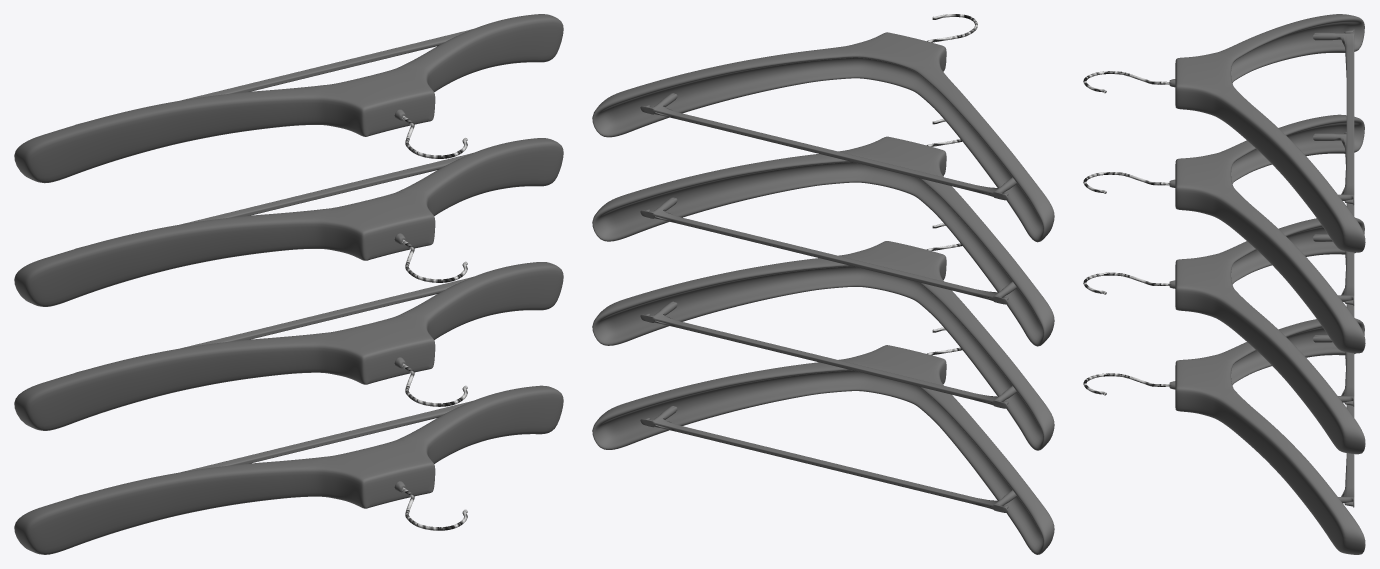
Rendered from 10922_Coat_hangers_v3_LOD3.obj.
3 views of the same model, side by side, from view 1: azimuth 30°, elevation 25°; view 2: azimuth 150°, elevation 25°; view 3: azimuth 270°, elevation 25° (orthographic). The views are drawn at different scales.
Visible parts, largest first — view 1: coat_hanger001, coat_hanger002, coat_hanger003, coat_hanger; view 2: coat_hanger, coat_hanger001, coat_hanger003, coat_hanger002; view 3: coat_hanger, coat_hanger001, coat_hanger002, coat_hanger003.
Part boxes in pixels (x1,y1,x2,y2): coat_hanger001: (14,138,563,306); coat_hanger002: (14,262,563,430); coat_hanger003: (14,385,563,554); coat_hanger: (14,14,563,183); coat_hanger: (592,14,1054,242); coat_hanger001: (592,119,1054,346); coat_hanger003: (592,327,1054,554); coat_hanger002: (592,223,1054,450); coat_hanger: (1083,14,1365,252); coat_hanger001: (1083,114,1365,353); coat_hanger002: (1083,218,1365,454); coat_hanger003: (1083,318,1365,554).
Size of the model in its own units: 18 by 15.02 by 10.02.
2 materials, 1 textured.
